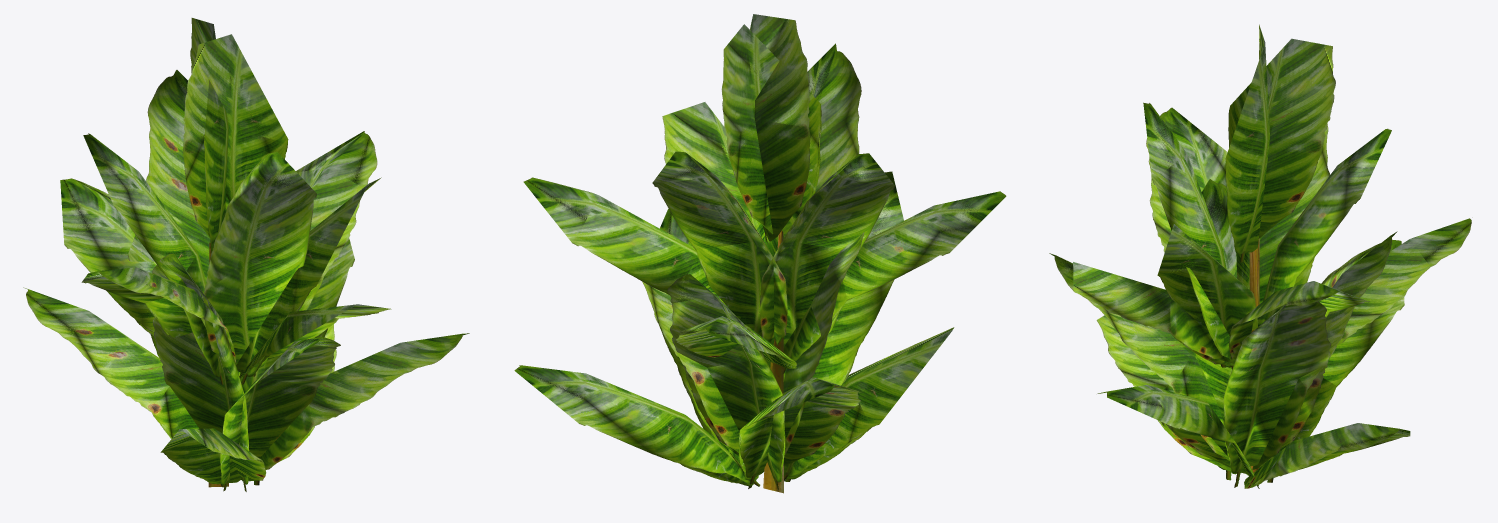
Rendered from plant c.dae.
3 renders of one model, left to right at view 1: azimuth 30°, elevation 25°; view 2: azimuth 150°, elevation 25°; view 3: azimuth 270°, elevation 25°, orthographic. The views are drawn at different scales.
Parts seen in each view (by area): view 1: plant_c; view 2: plant_c; view 3: plant_c.
Part boxes in pixels (<box>): plant_c: <box>23,18,469,491</box>; plant_c: <box>514,14,1006,493</box>; plant_c: <box>1049,24,1471,488</box>.
Size of the model in its own units: 53.45 by 60.64 by 54.67.
Materials: 1 (1 with a texture image).
